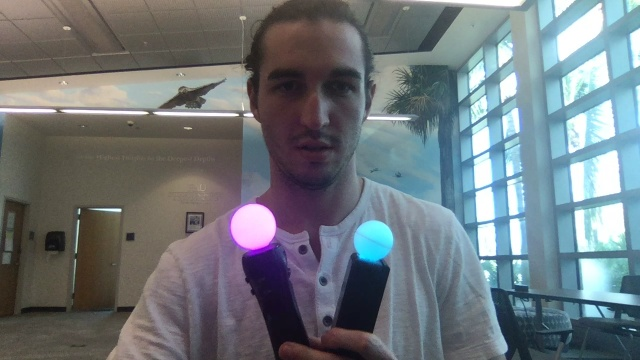wand: (231, 204, 277, 247), (353, 219, 393, 261)
